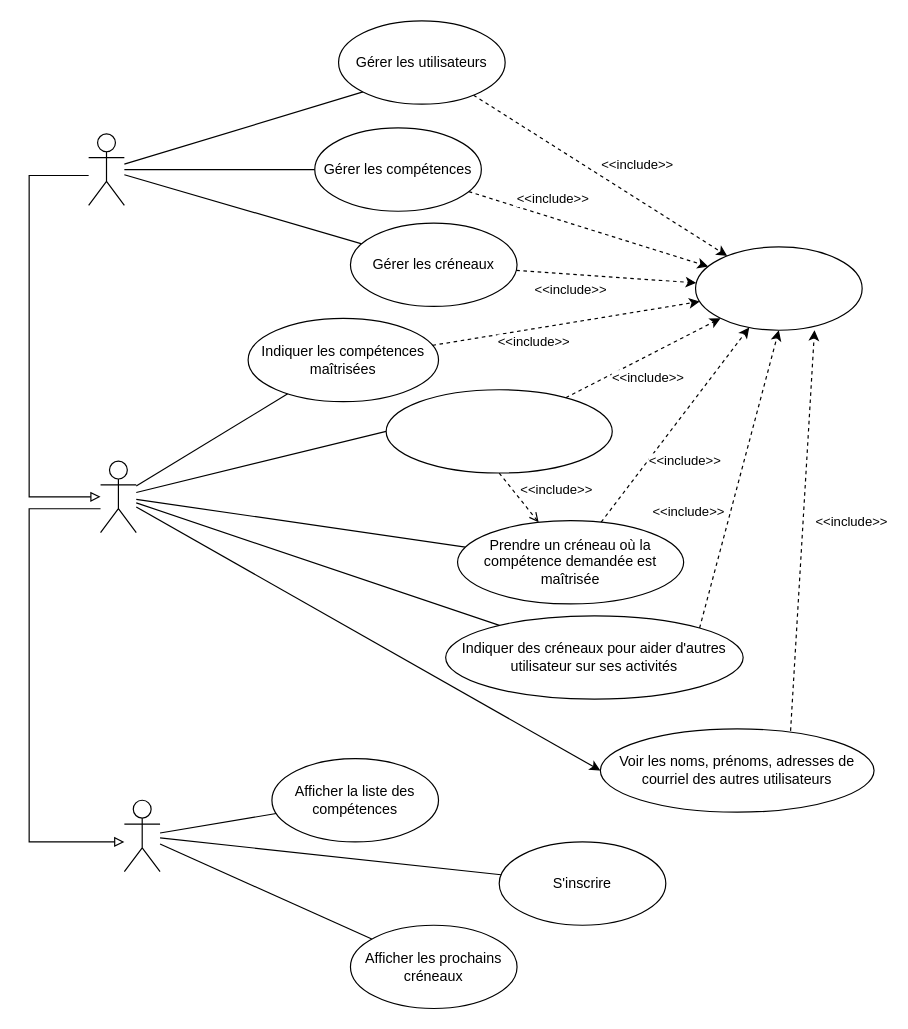
The diagram is 908 pixels wide and 1029 high, and some of its shapes have lost their labels. Here are the shapes that lost their labels. From the top down, the centre of each, then its label:
(x=105, y=169): Administrateur
(x=778, y=288): Se connecter
(x=498, y=431): Afficher les créneaux où une compétence maîtrisée est demandée
(x=117, y=496): Utilisateur connecté
(x=141, y=835): Visiteur
